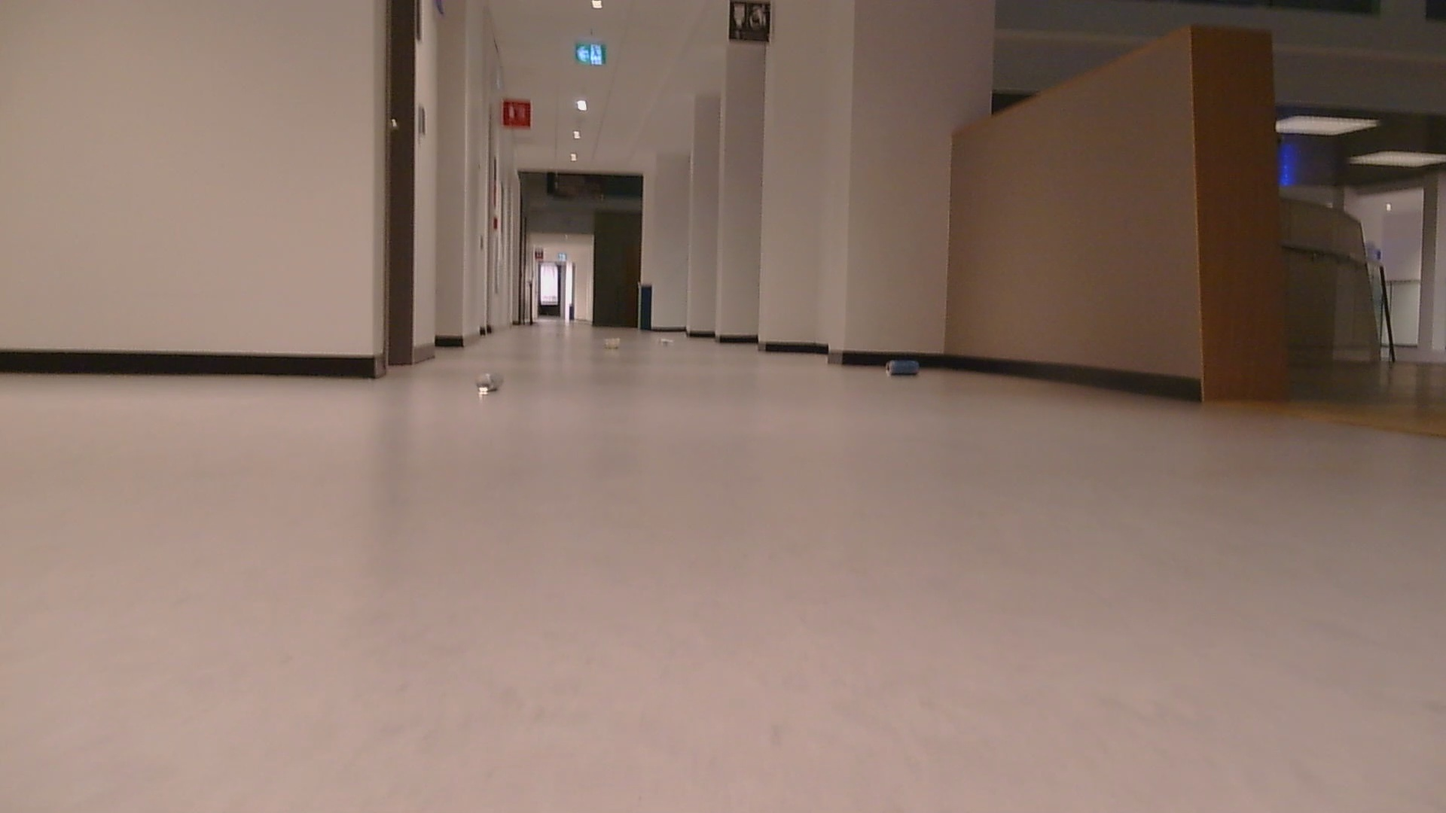carton: (872, 342, 928, 388), (468, 367, 525, 402), (601, 328, 628, 356), (658, 333, 682, 352)
